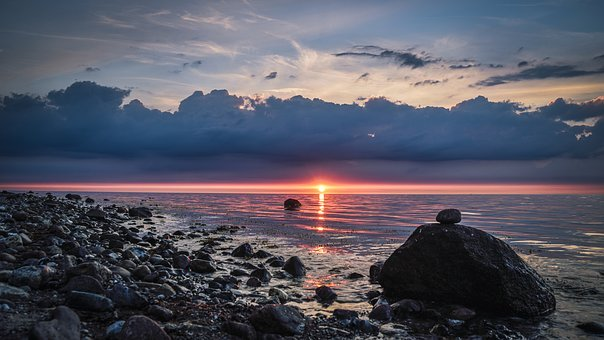sea: (41, 180, 586, 333)
sky: (6, 2, 600, 173)
stone: (387, 208, 573, 327)
